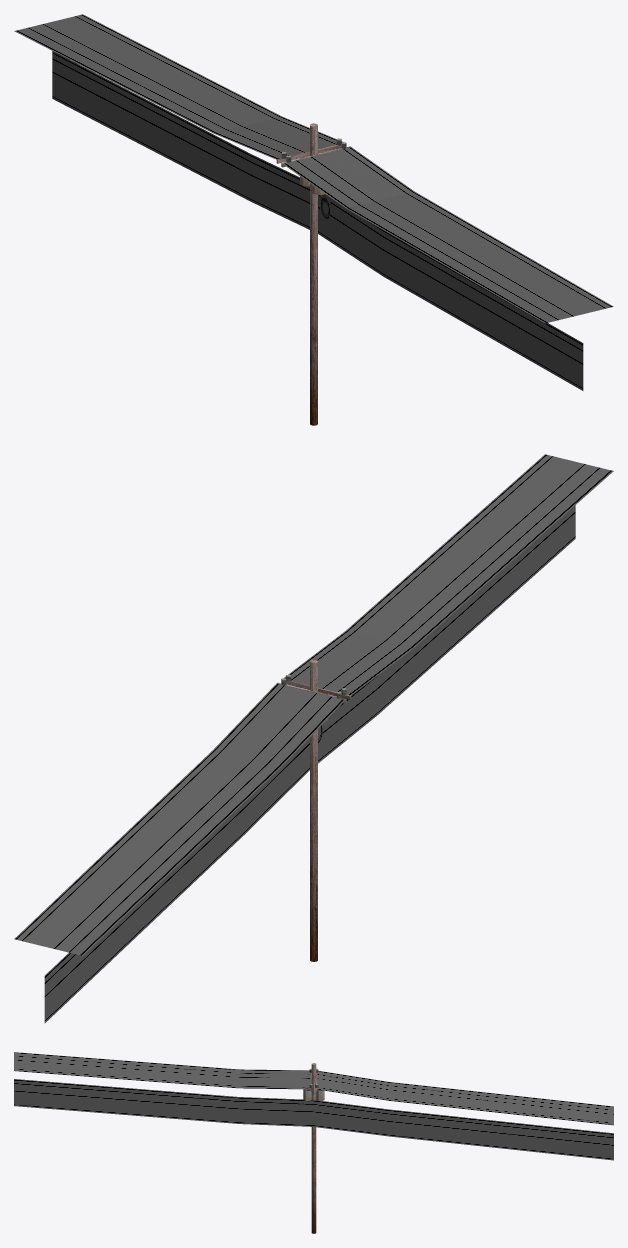
File: tpole40_1a.fbx
3 views of the same model, one above another, from view 1: azimuth 30°, elevation 25°; view 2: azimuth 150°, elevation 25°; view 3: azimuth 270°, elevation 25° (orthographic). The views are drawn at different scales.
Parts seen in each view (by area): view 1: mesh_0; view 2: mesh_0; view 3: mesh_0.
Part boxes in pixels (left/top/right/bottom): mesh_0: left=14, top=14, right=613, bottom=425; mesh_0: left=14, top=454, right=613, bottom=1023; mesh_0: left=14, top=1052, right=613, bottom=1233.
Size of the model in its own units: 300 by 1260 by 4000.
1 material, 1 textured.
